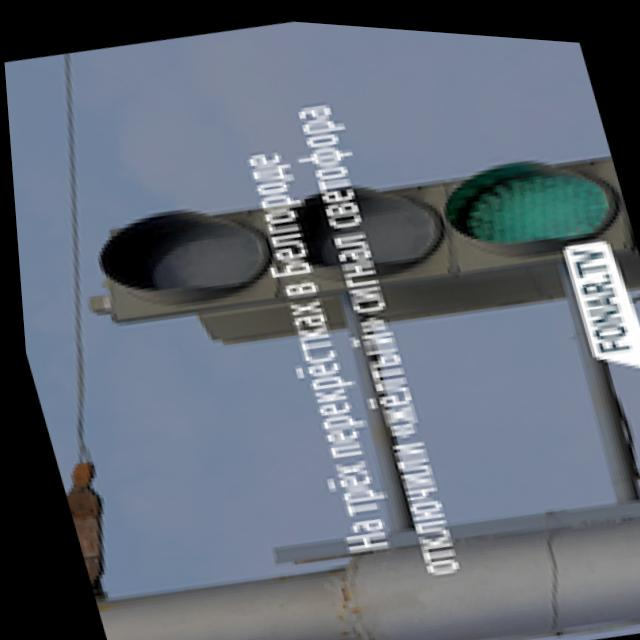green_light: (427, 82, 636, 277)
